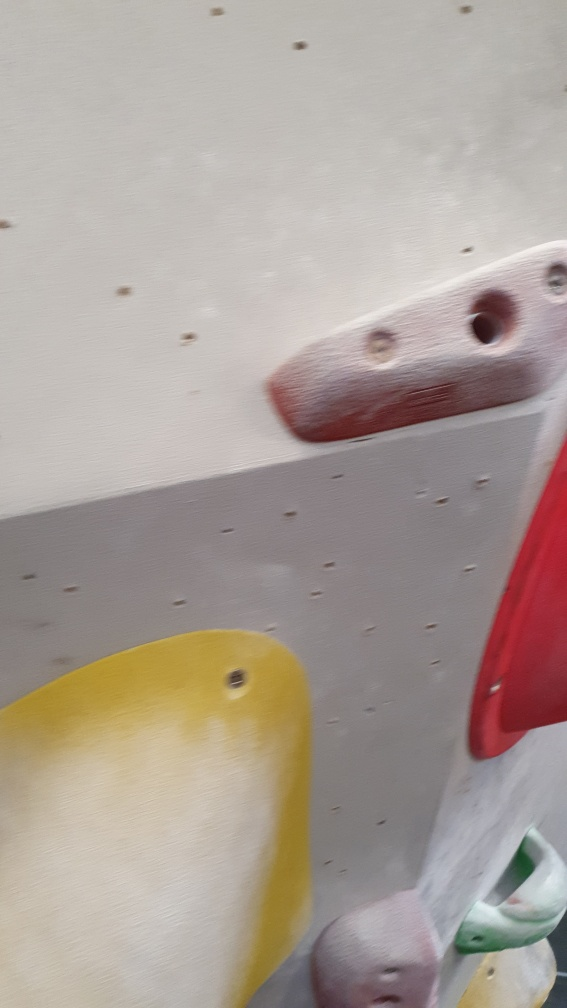Jug: (457, 822, 567, 956)
Pinch: (263, 236, 567, 448)
